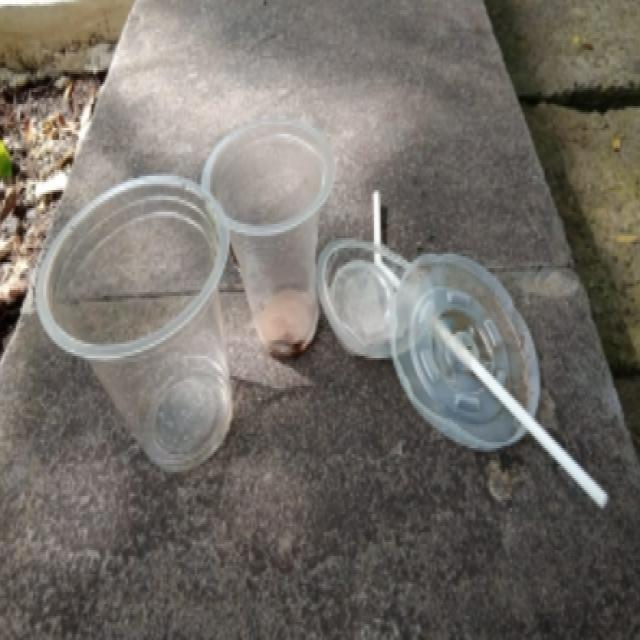GelasPlastik: (33, 172, 235, 474), (205, 117, 334, 356)
